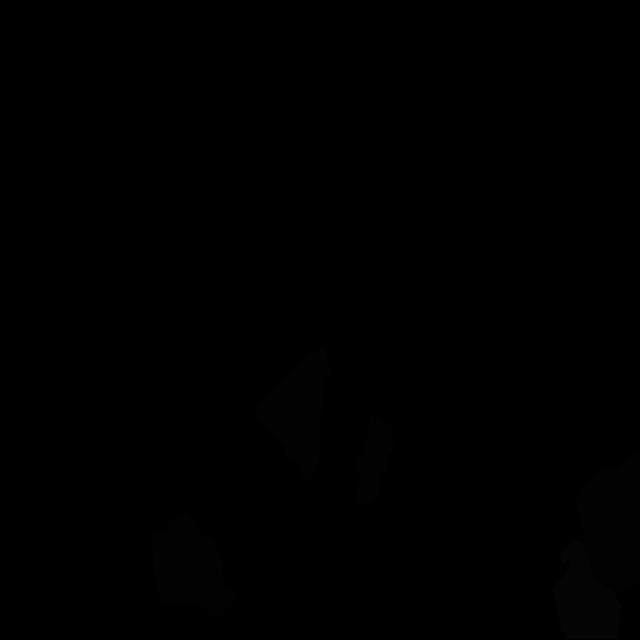cardboard: (255, 346, 331, 479), (152, 511, 240, 620), (575, 452, 640, 593), (354, 415, 394, 505)
soft_plastic: (552, 540, 621, 639)
